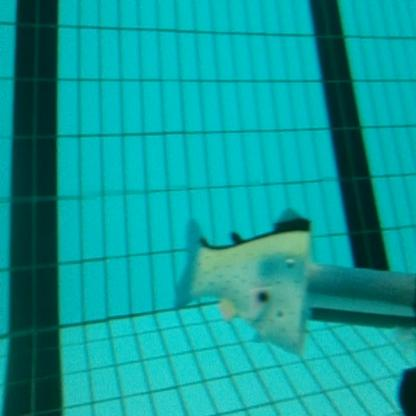tail: (173, 202, 316, 355)
